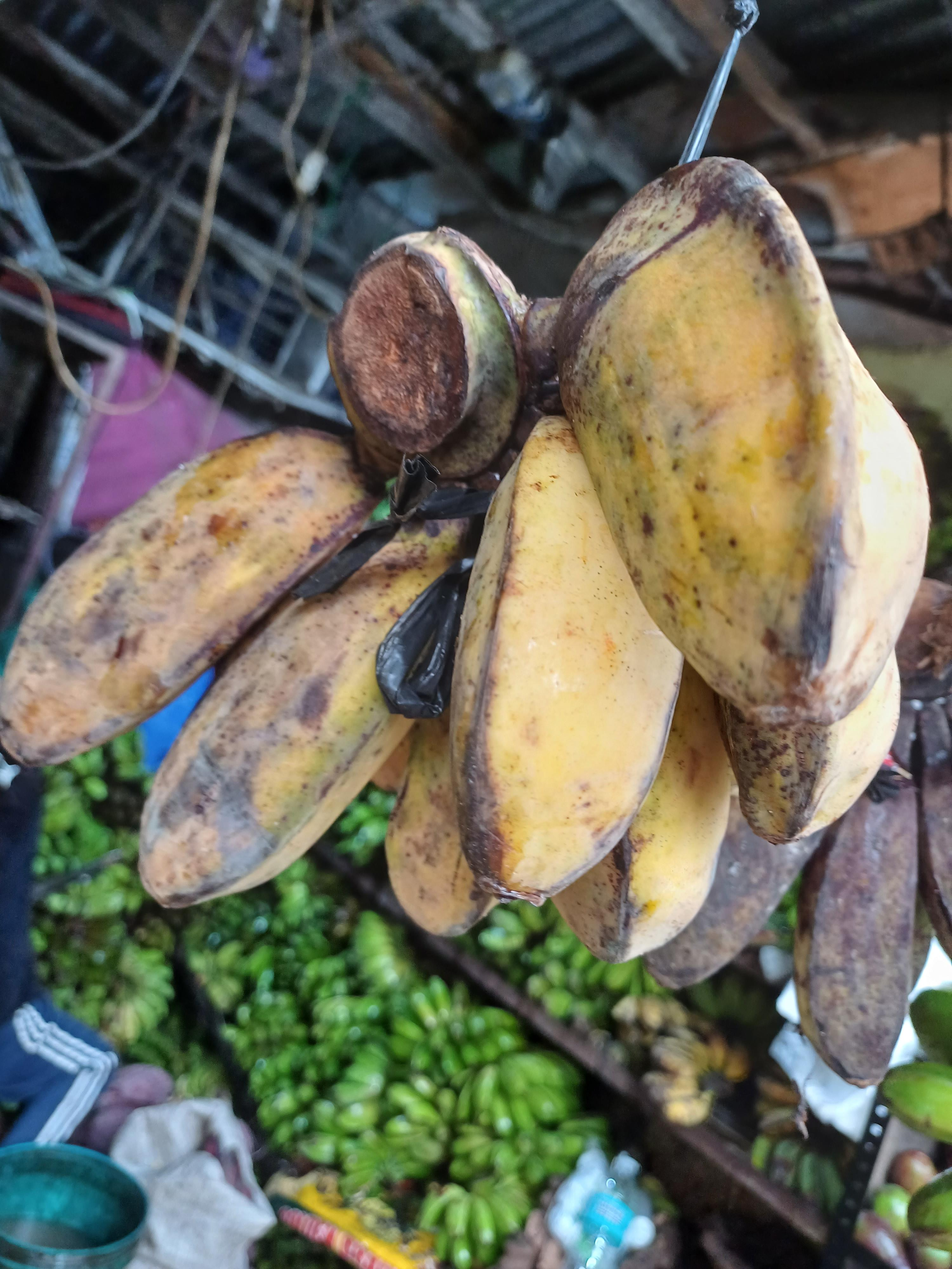overripe: (639, 758, 952, 1089)
underripe: (0, 159, 931, 961)
